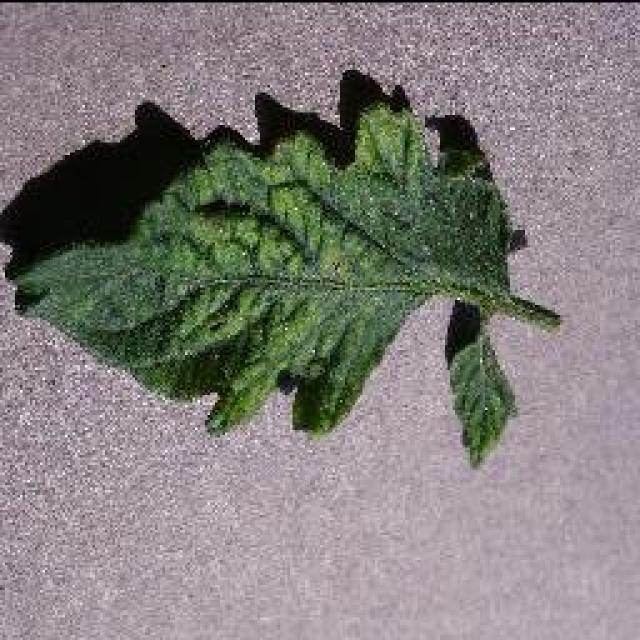Tomato___Tomato_mosaic_virus: (18, 72, 558, 462)
